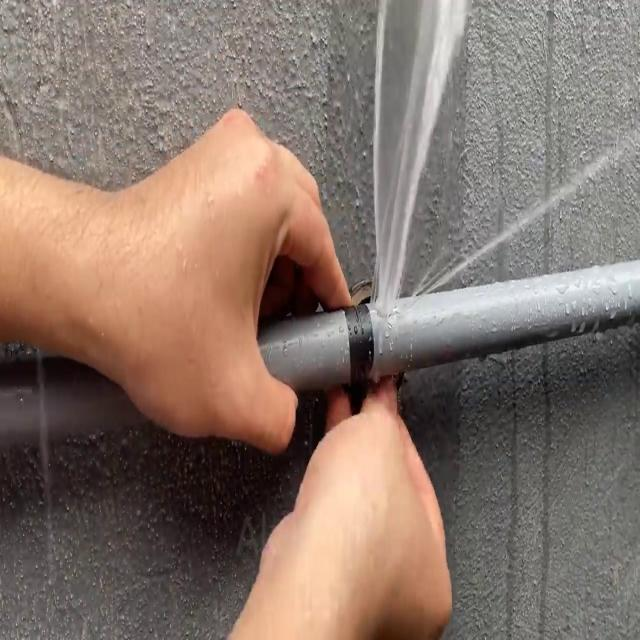leak: (369, 0, 477, 324)
